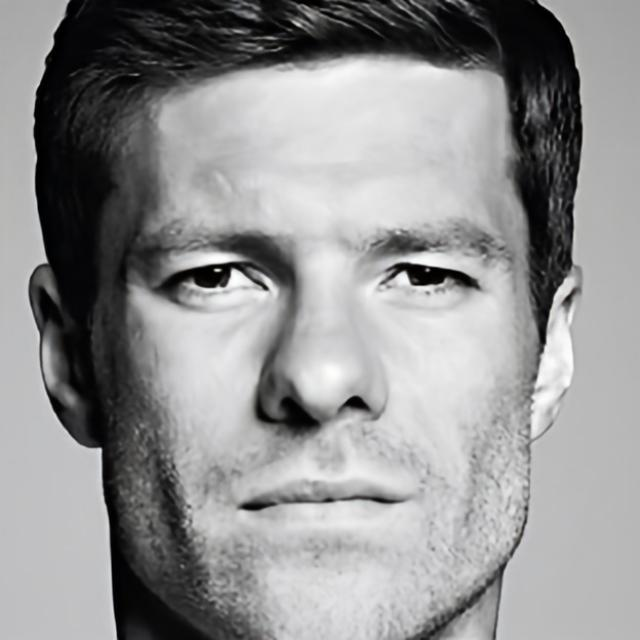neutral: (92, 50, 540, 640)
